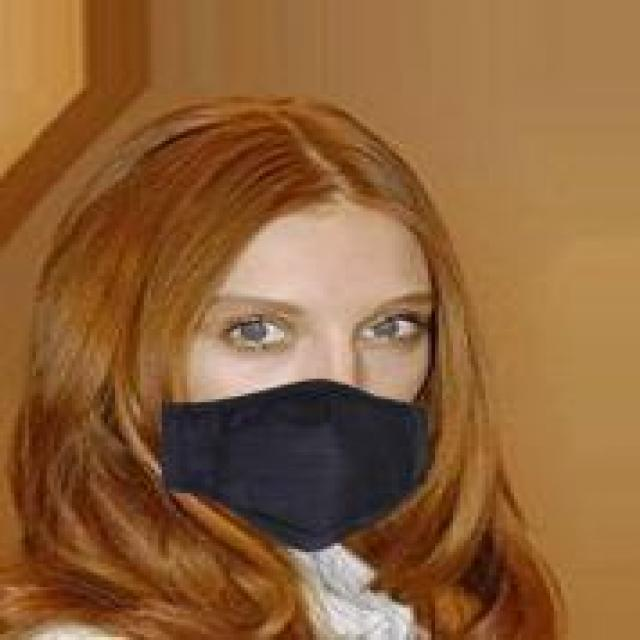mask: (108, 74, 492, 543)
